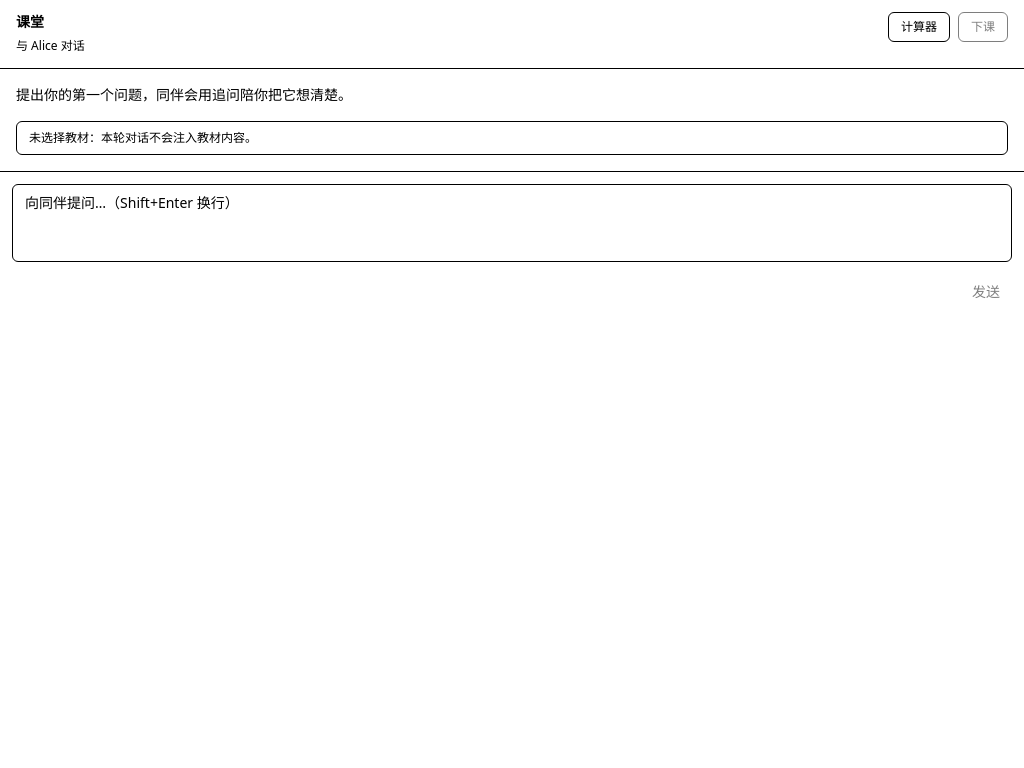
ChatPanel — stopping a reply › keeps the partial reply with a marker and offers regenerate
Type "什么是惯性？" into the text box named "Message" at (512, 223), box [12, 184, 1012, 262]
Then press Enter
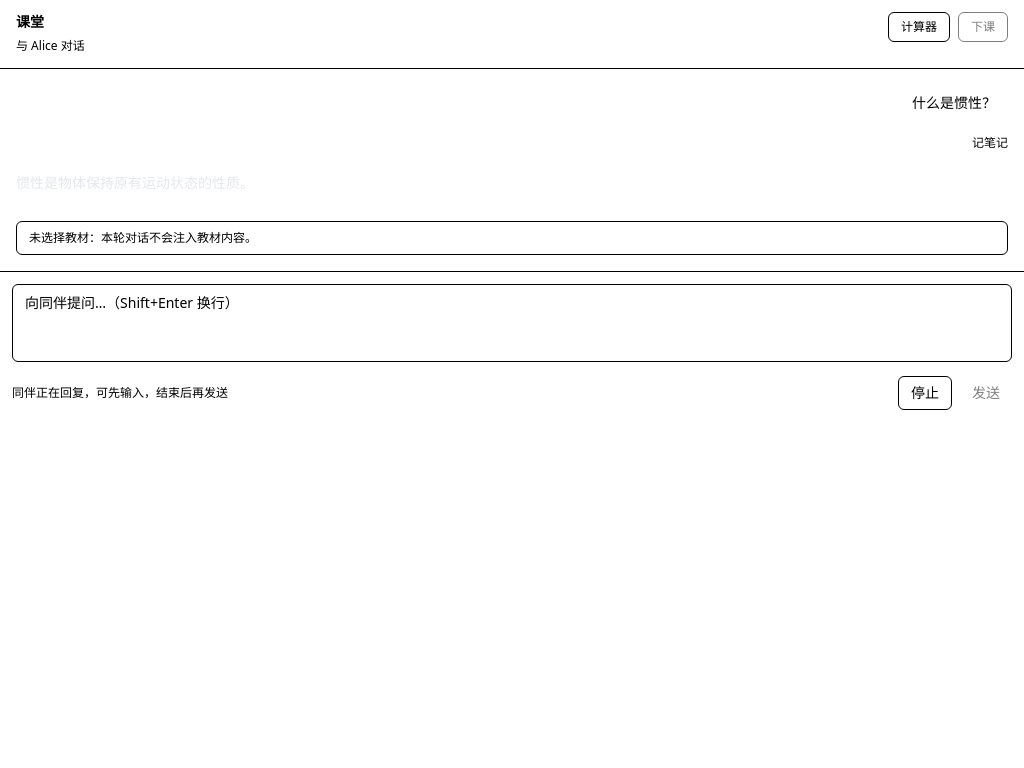
Expected: the text "惯性是物体保持原有运动状态的性质。" is shown, [16, 173, 254, 192]
Click the button "停止" at (925, 393), box [898, 376, 952, 410]
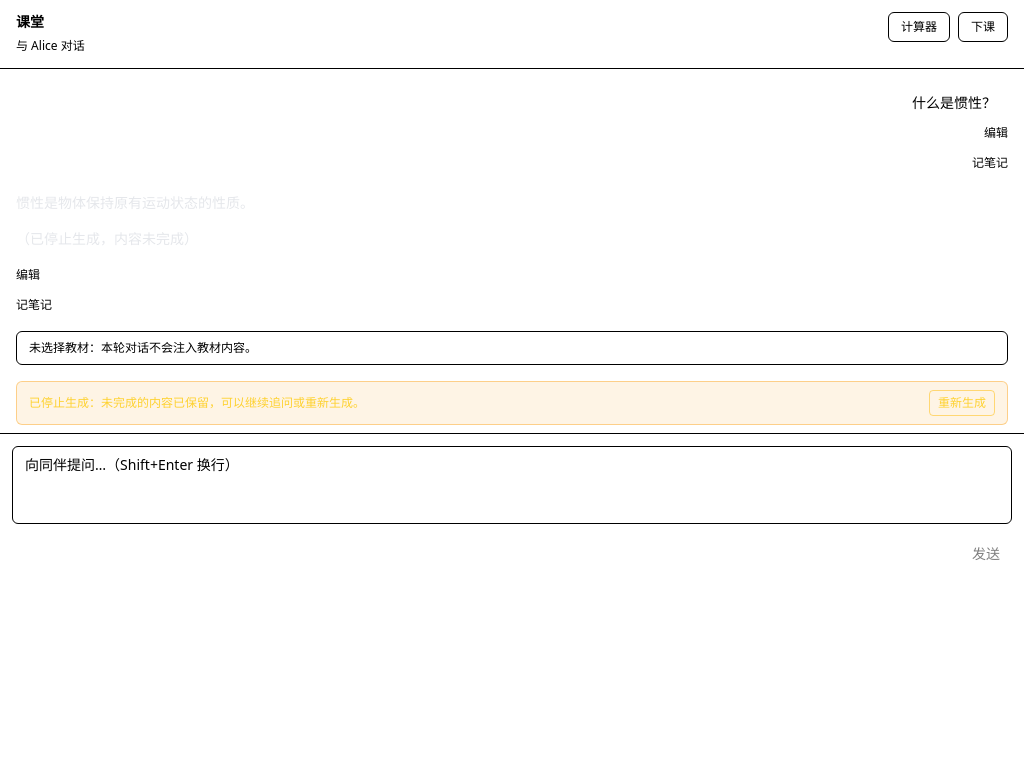
Expected: the message shows "已停止生成", [29, 394, 365, 411]
Expected: the button "重新生成" is shown, [929, 390, 995, 416]
